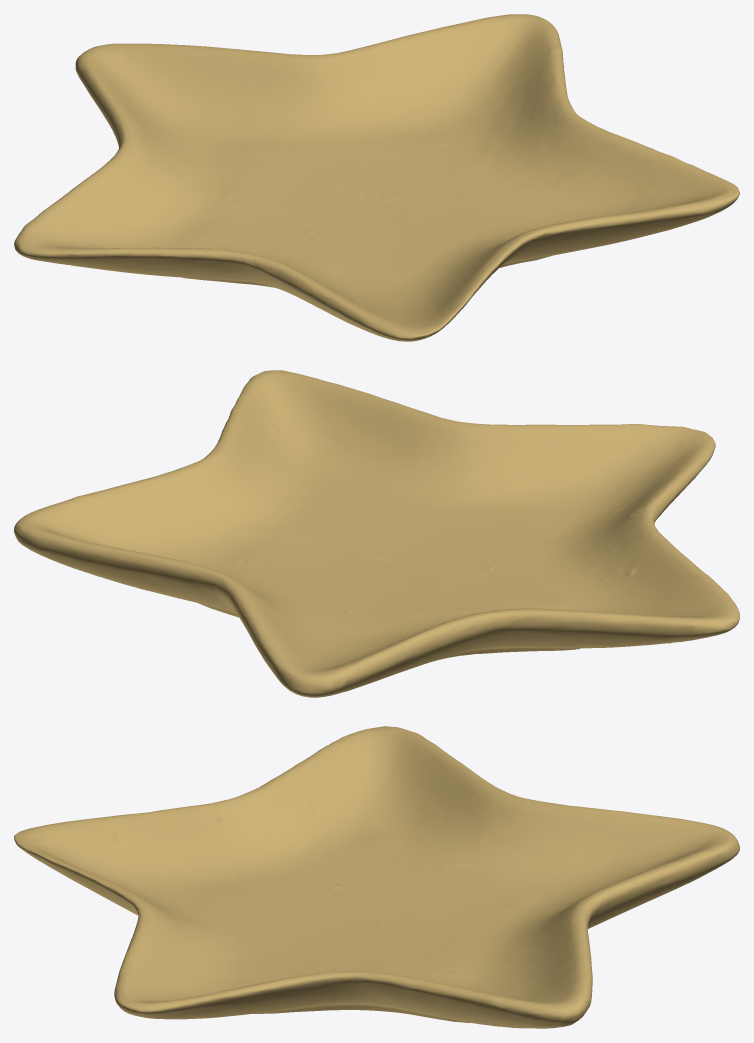
File: Sub_Estrella.gltf
3 renders of one model, top to bottom at view 1: azimuth 30°, elevation 25°; view 2: azimuth 150°, elevation 25°; view 3: azimuth 270°, elevation 25°, orthographic. The views are drawn at different scales.
Visible parts, largest first — view 1: MDL_Estrella; view 2: MDL_Estrella; view 3: MDL_Estrella.
Part boxes in pixels (x1=…): MDL_Estrella: x1=14, y1=14, x2=739, y2=341; MDL_Estrella: x1=14, y1=370, x2=739, y2=697; MDL_Estrella: x1=14, y1=726, x2=739, y2=1028.
Bounding box in the file's own units: 16.95 × 2.17 × 17.34.
Materials: 1 (1 with a texture image).
